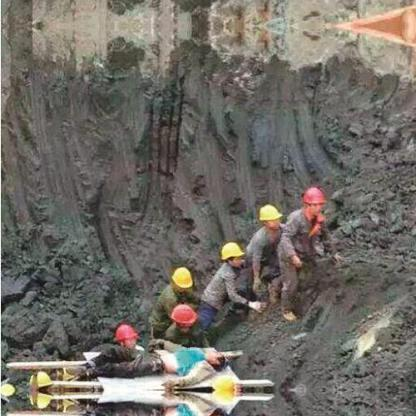helmet: (165, 301, 199, 328), (107, 319, 139, 345), (170, 261, 196, 291), (218, 238, 246, 264), (303, 184, 328, 209), (260, 198, 284, 224)
